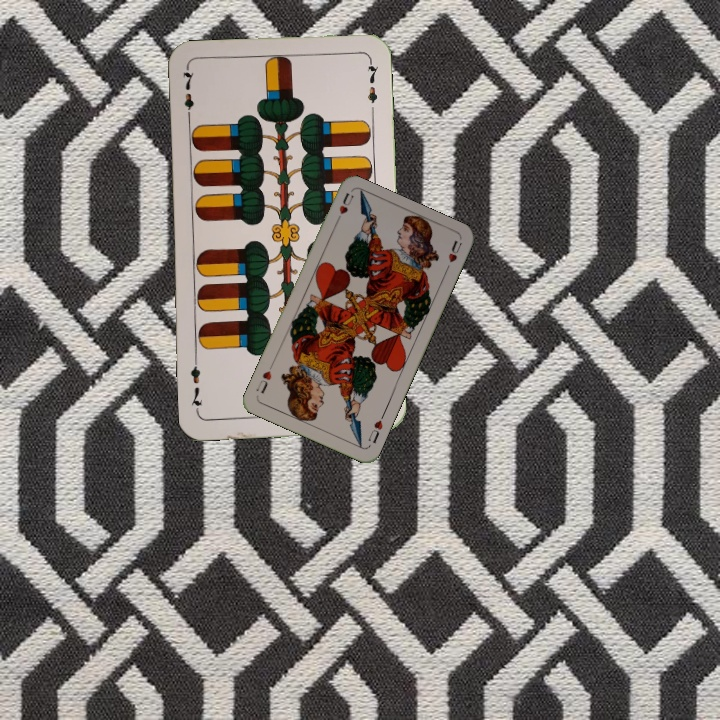E7: (179, 65, 197, 125)
HU: (331, 189, 356, 227), (364, 410, 387, 446)
